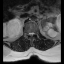CCS_normal: (30, 31, 32, 38)
LFS_stenosis: (34, 31, 36, 36)
LLS_normal: (32, 30, 34, 37)
RFS_normal: (26, 31, 28, 36)
RLS_normal: (28, 30, 30, 37)
